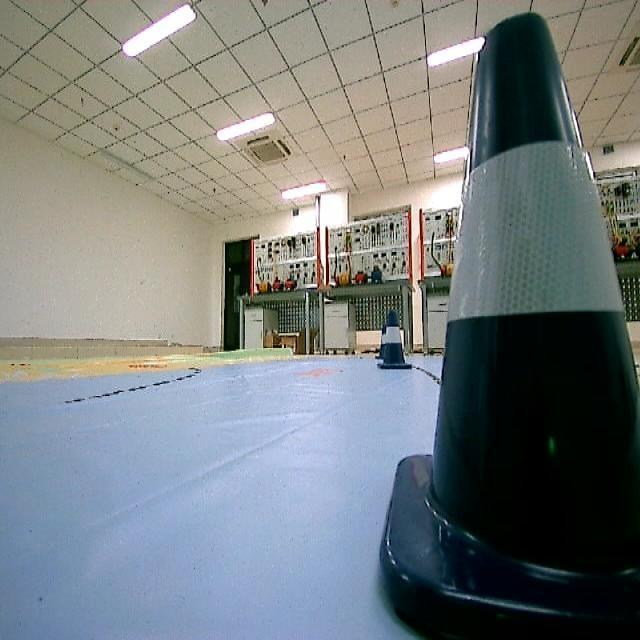obstacle: (368, 14, 640, 640), (376, 308, 414, 376)
